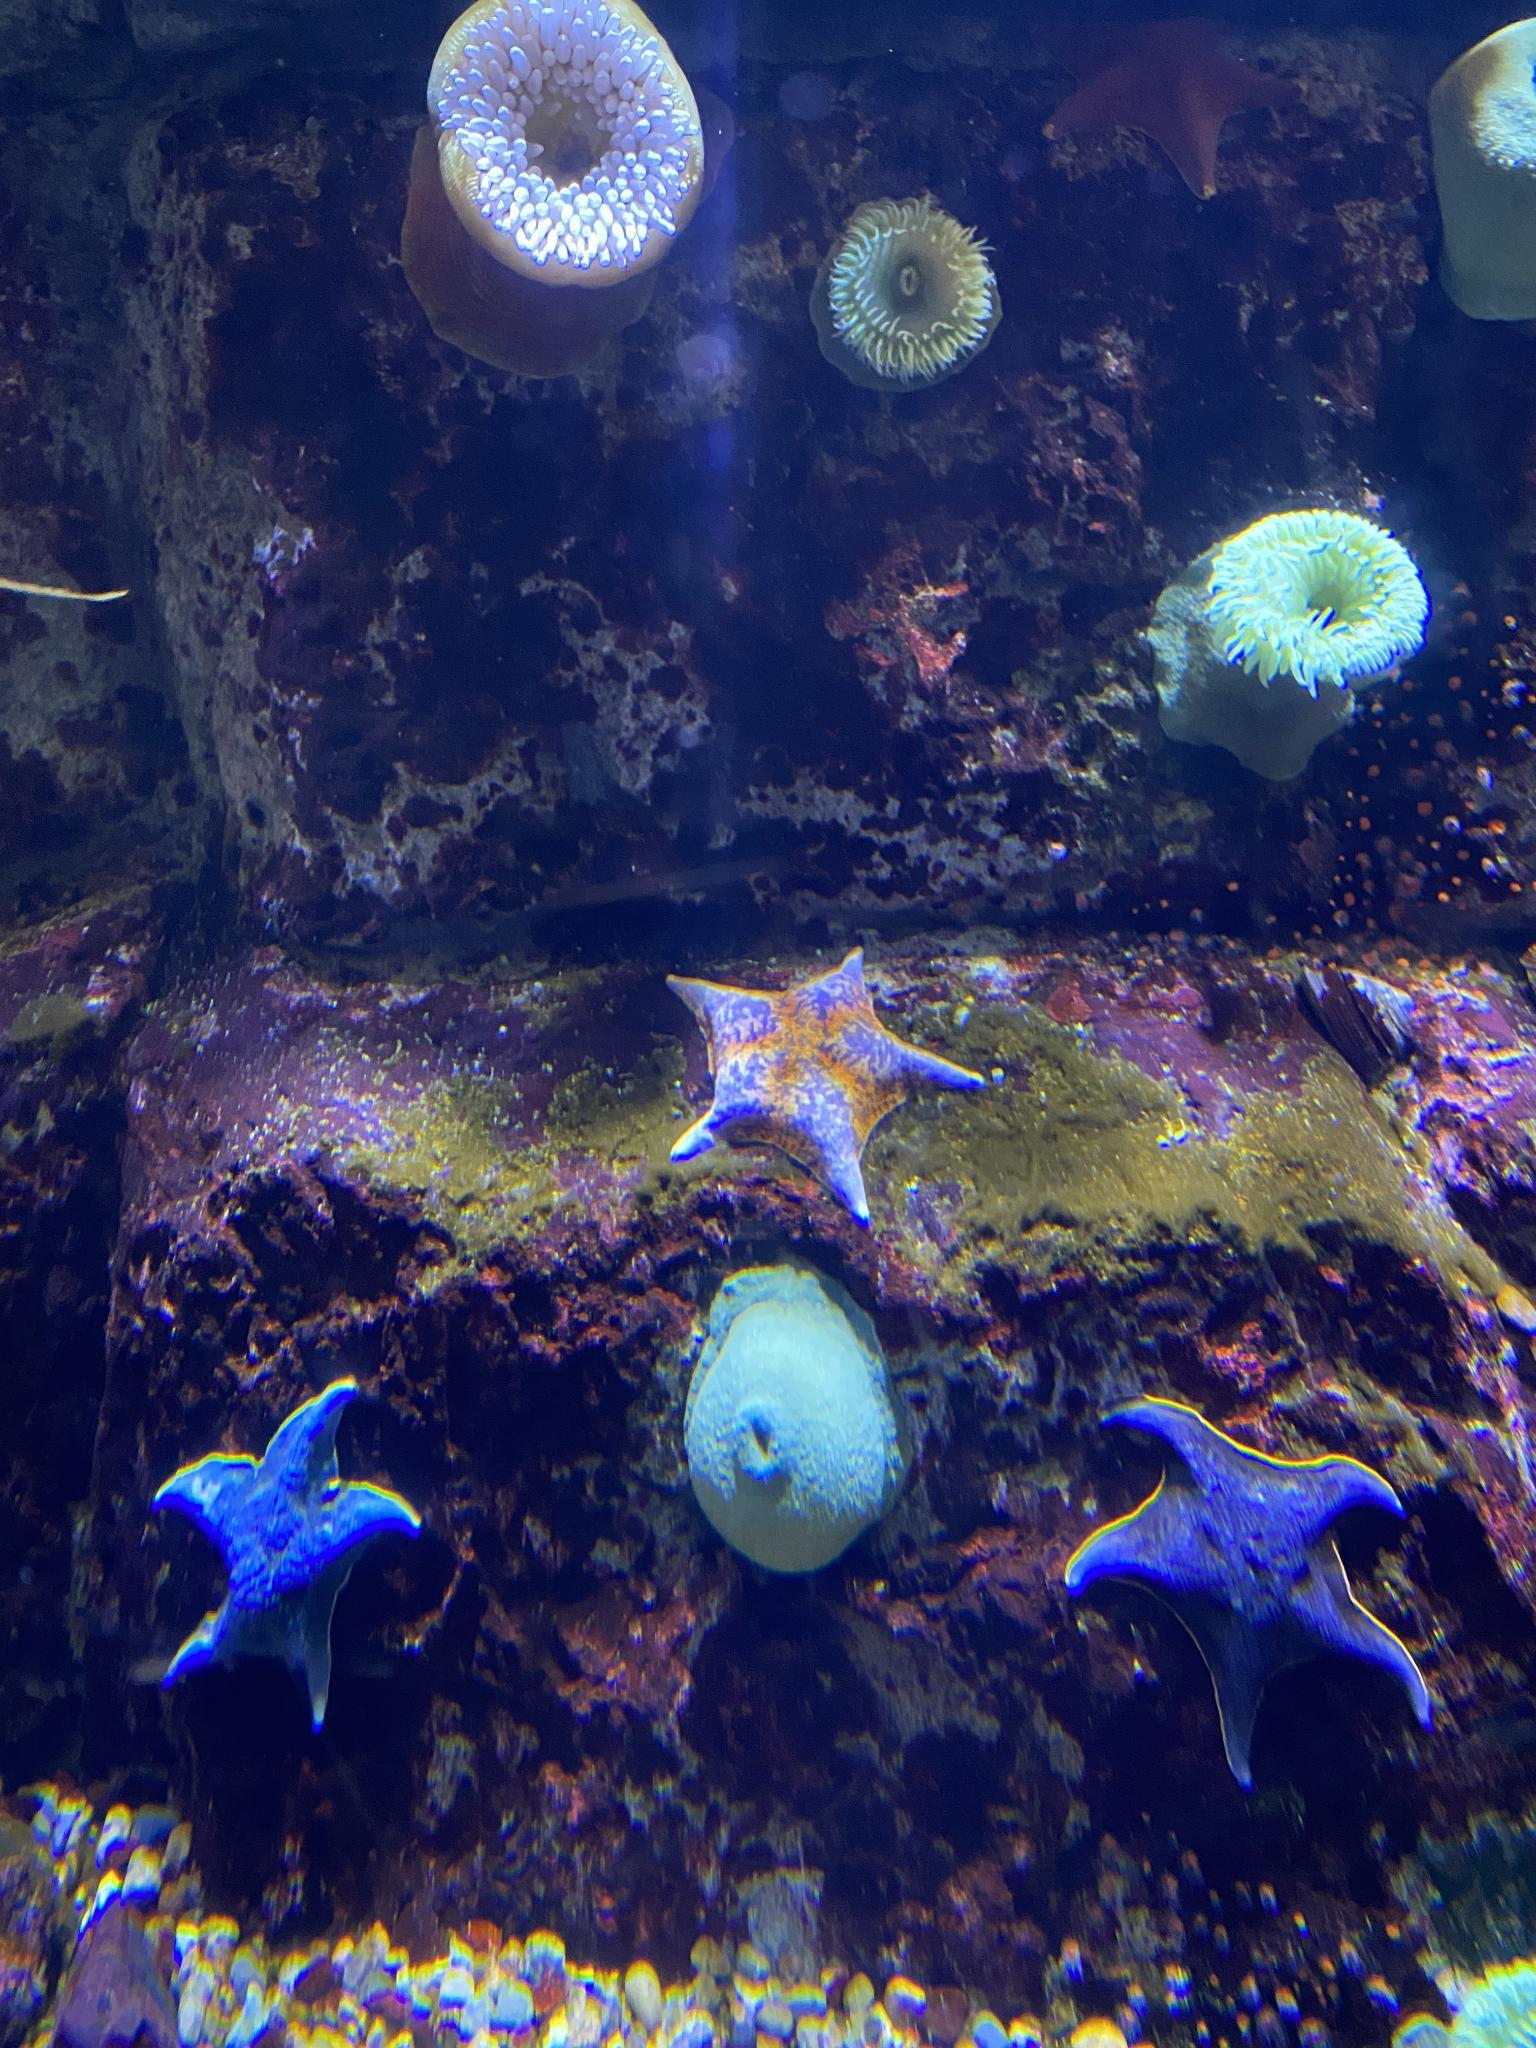starfish: (1065, 1393, 1430, 1793), (134, 1369, 431, 1738), (658, 948, 986, 1229)
